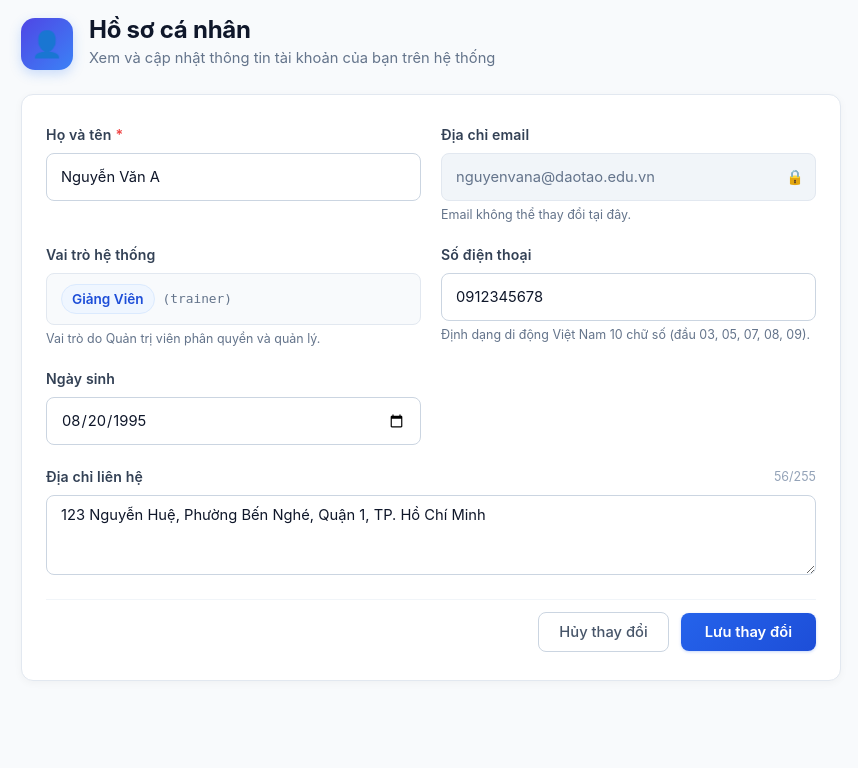
Test: SCRUM-120: Frontend Hồ sơ cá nhân (Activity A6) › 17. API validation error: hiển thị thông báo lỗi thân thiện khi backend từ chối
The image size is (858, 768).
What coordinates should you click on to do the following:
click the button with test id "btn-save-profile"
I would click on:
 (748, 632)
Its box is [681,613,816,651].
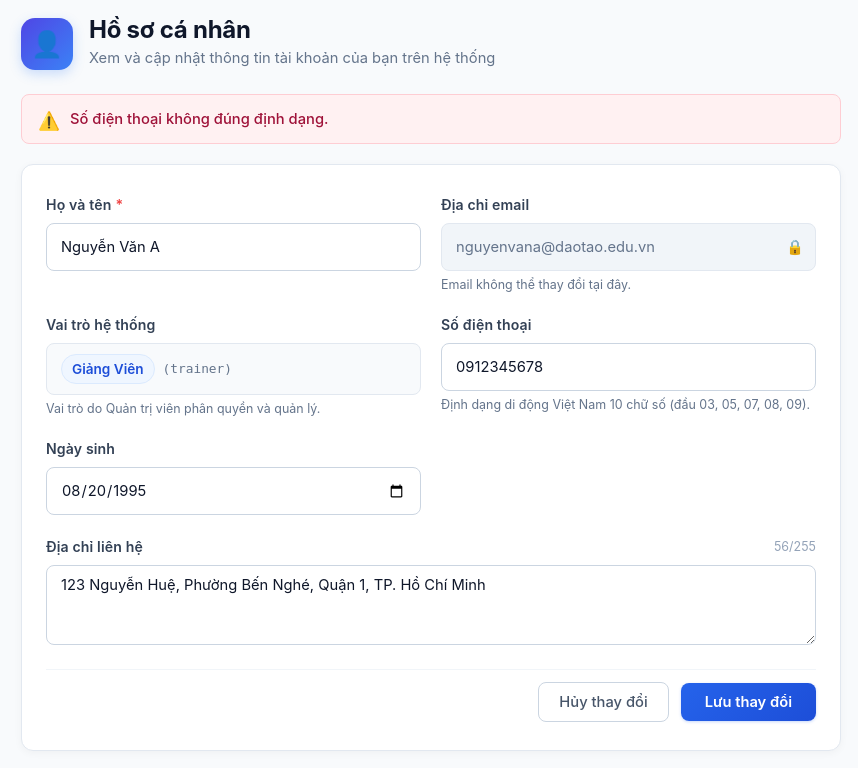
Check: the message with test id "profile-error-message" shows "Số điện thoại không đúng định dạng.", box [70,110,328,128]
